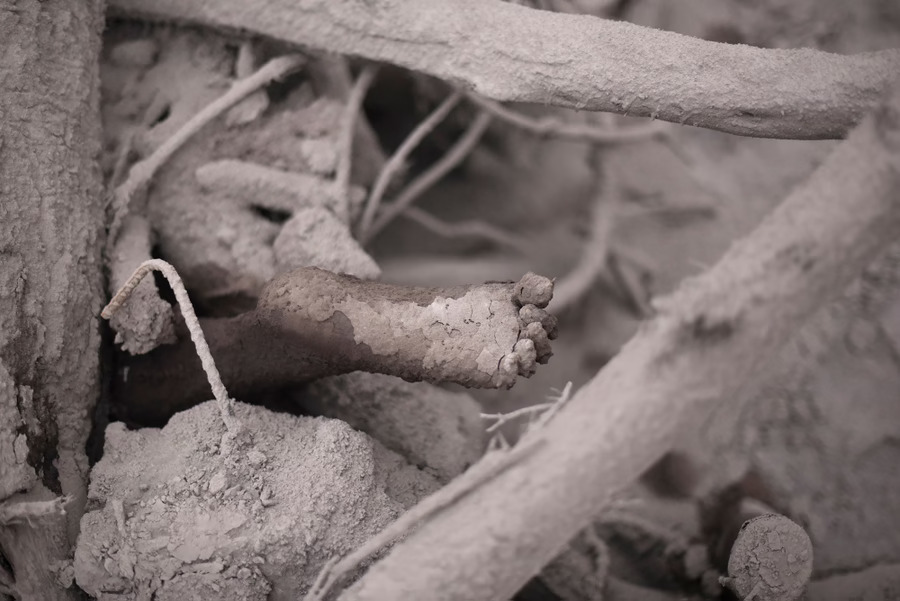Korban: (123, 266, 559, 421)
